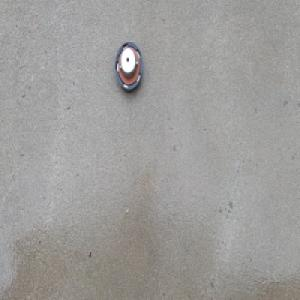FuelCap: (113, 40, 142, 92)
